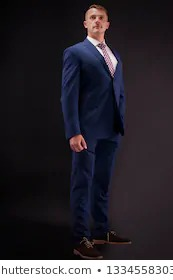F_M_suit jacket: (62, 38, 128, 137)
F_dress pants: (68, 132, 123, 238)
F_tie: (95, 43, 118, 78)
